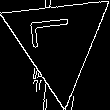L_E: (34, 23, 83, 59)
